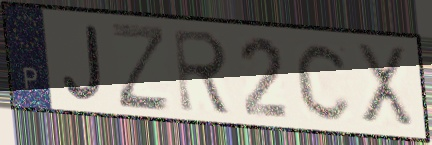2: (236, 34, 291, 121)
C: (294, 39, 354, 123)
J: (60, 21, 106, 103)
R: (171, 26, 236, 118)
X: (354, 40, 417, 132)
Z: (108, 20, 172, 113)
